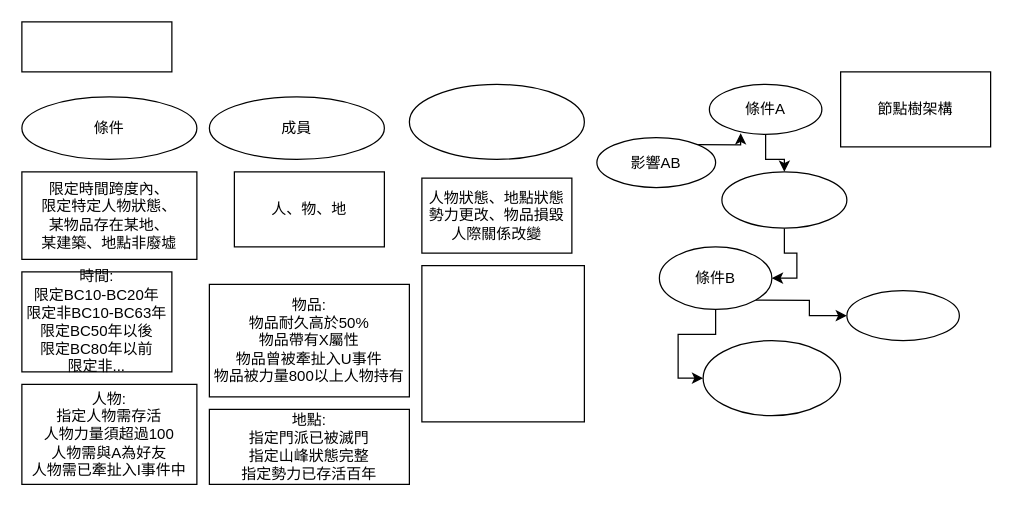
Image size: 1013x506. Some labels were removed from this diagram. The shapes that lost their labels are listed below. From the top down, each one's centre as x and y in pixels, then its label:
(x=96, y=46): 劇情架構
(x=496, y=121): 影響
(x=784, y=199): 影響A
(x=902, y=315): 影響B
(x=502, y=343): 過場劇情 某人對某人說了某話 某人對某人施展某招 某物毀損 某人對某人好感+20 某門派設施升級 某人收某人為徒
(x=771, y=377): 影響C
